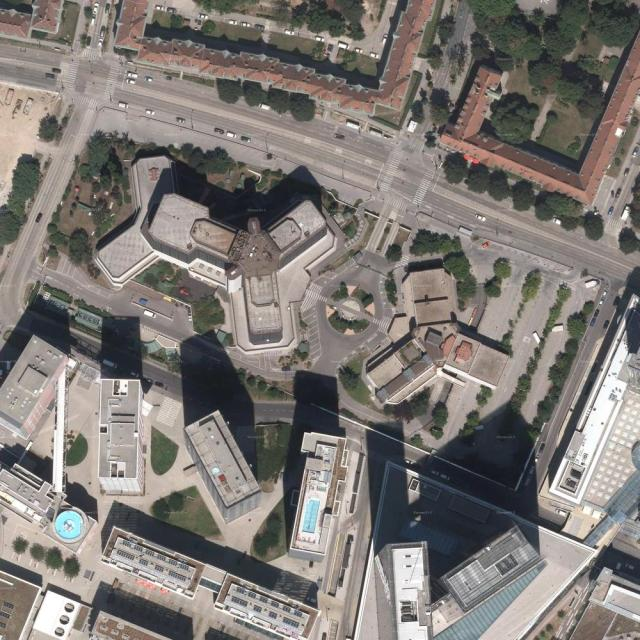building: (85, 107, 355, 361), (353, 461, 551, 614), (478, 521, 597, 640), (421, 524, 539, 628), (177, 409, 268, 524), (433, 565, 551, 640), (441, 525, 542, 612), (288, 432, 352, 564), (99, 526, 206, 600), (99, 379, 144, 495), (451, 64, 509, 147), (443, 332, 510, 390), (374, 353, 440, 411), (0, 559, 43, 640), (407, 265, 460, 326), (113, 0, 149, 51), (355, 565, 379, 639), (367, 354, 407, 390), (375, 368, 416, 403), (605, 583, 640, 616), (394, 338, 426, 370), (55, 510, 84, 541), (58, 615, 71, 627)
dryland: (0, 82, 60, 204)
greenland: (437, 148, 612, 244), (522, 295, 597, 445), (505, 282, 574, 416), (109, 132, 237, 178), (214, 73, 319, 124), (83, 128, 132, 215), (7, 531, 85, 582), (417, 9, 465, 72), (439, 247, 485, 311), (133, 252, 190, 300), (491, 92, 539, 144), (389, 386, 440, 429), (334, 360, 375, 411), (410, 228, 464, 264), (147, 486, 191, 526), (480, 254, 517, 301), (45, 178, 75, 234), (190, 294, 226, 334), (516, 265, 547, 306), (65, 226, 95, 266), (455, 407, 484, 447), (424, 400, 451, 440), (464, 28, 494, 63), (442, 250, 472, 283), (194, 1, 258, 13), (429, 88, 450, 123), (148, 495, 174, 523), (39, 113, 63, 143), (471, 384, 495, 409), (492, 257, 511, 279), (409, 99, 425, 124), (76, 162, 93, 184), (49, 231, 69, 246)
metalled_road: (82, 56, 395, 209), (38, 251, 305, 388), (20, 301, 261, 435), (519, 283, 635, 498), (329, 416, 543, 523), (288, 257, 403, 380), (584, 122, 640, 237), (381, 148, 443, 216), (529, 480, 579, 529), (72, 55, 111, 99), (358, 248, 397, 276), (253, 401, 297, 424), (79, 48, 103, 63)
